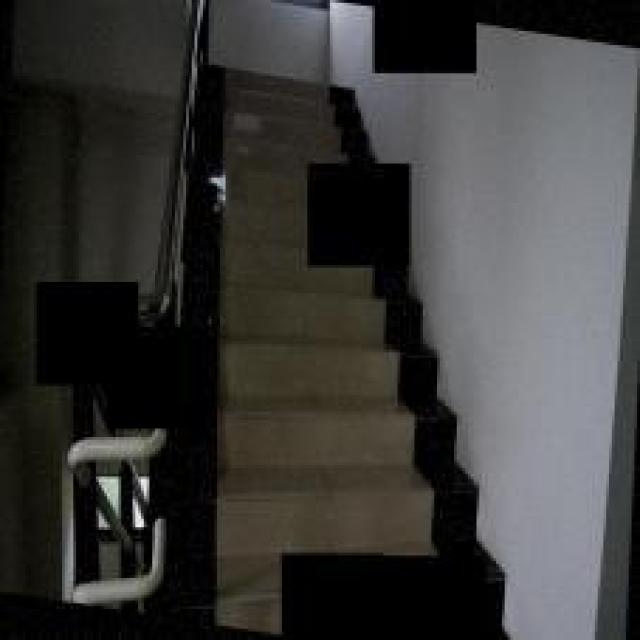upstair: (224, 320, 469, 545)
